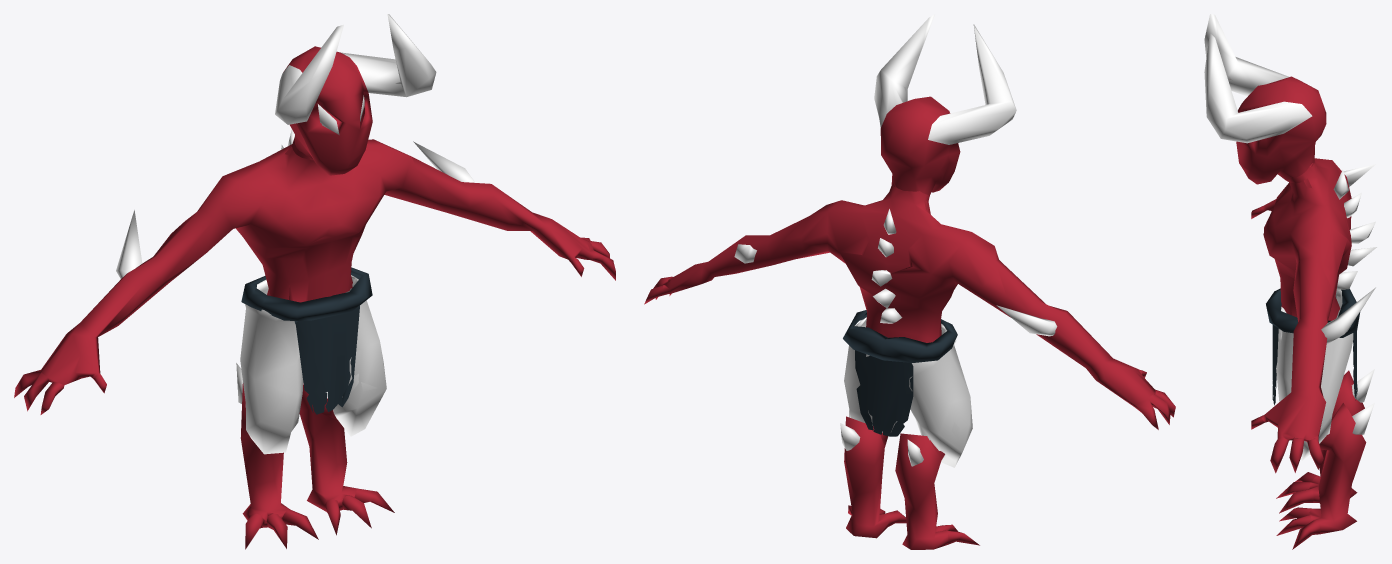
Rendered from Demon.fbx.
3 renders of one model, left to right at view 1: azimuth 30°, elevation 25°; view 2: azimuth 150°, elevation 25°; view 3: azimuth 270°, elevation 25°, orthographic. The views are drawn at different scales.
Visible parts, largest first — view 1: Demon; view 2: Demon; view 3: Demon.
Part boxes in pixels (x1,y1,x2,y2): Demon: (14, 14, 615, 549); Demon: (644, 14, 1175, 549); Demon: (1204, 14, 1376, 549).
Bounding box in the file's own units: 1010 × 902 × 286.
